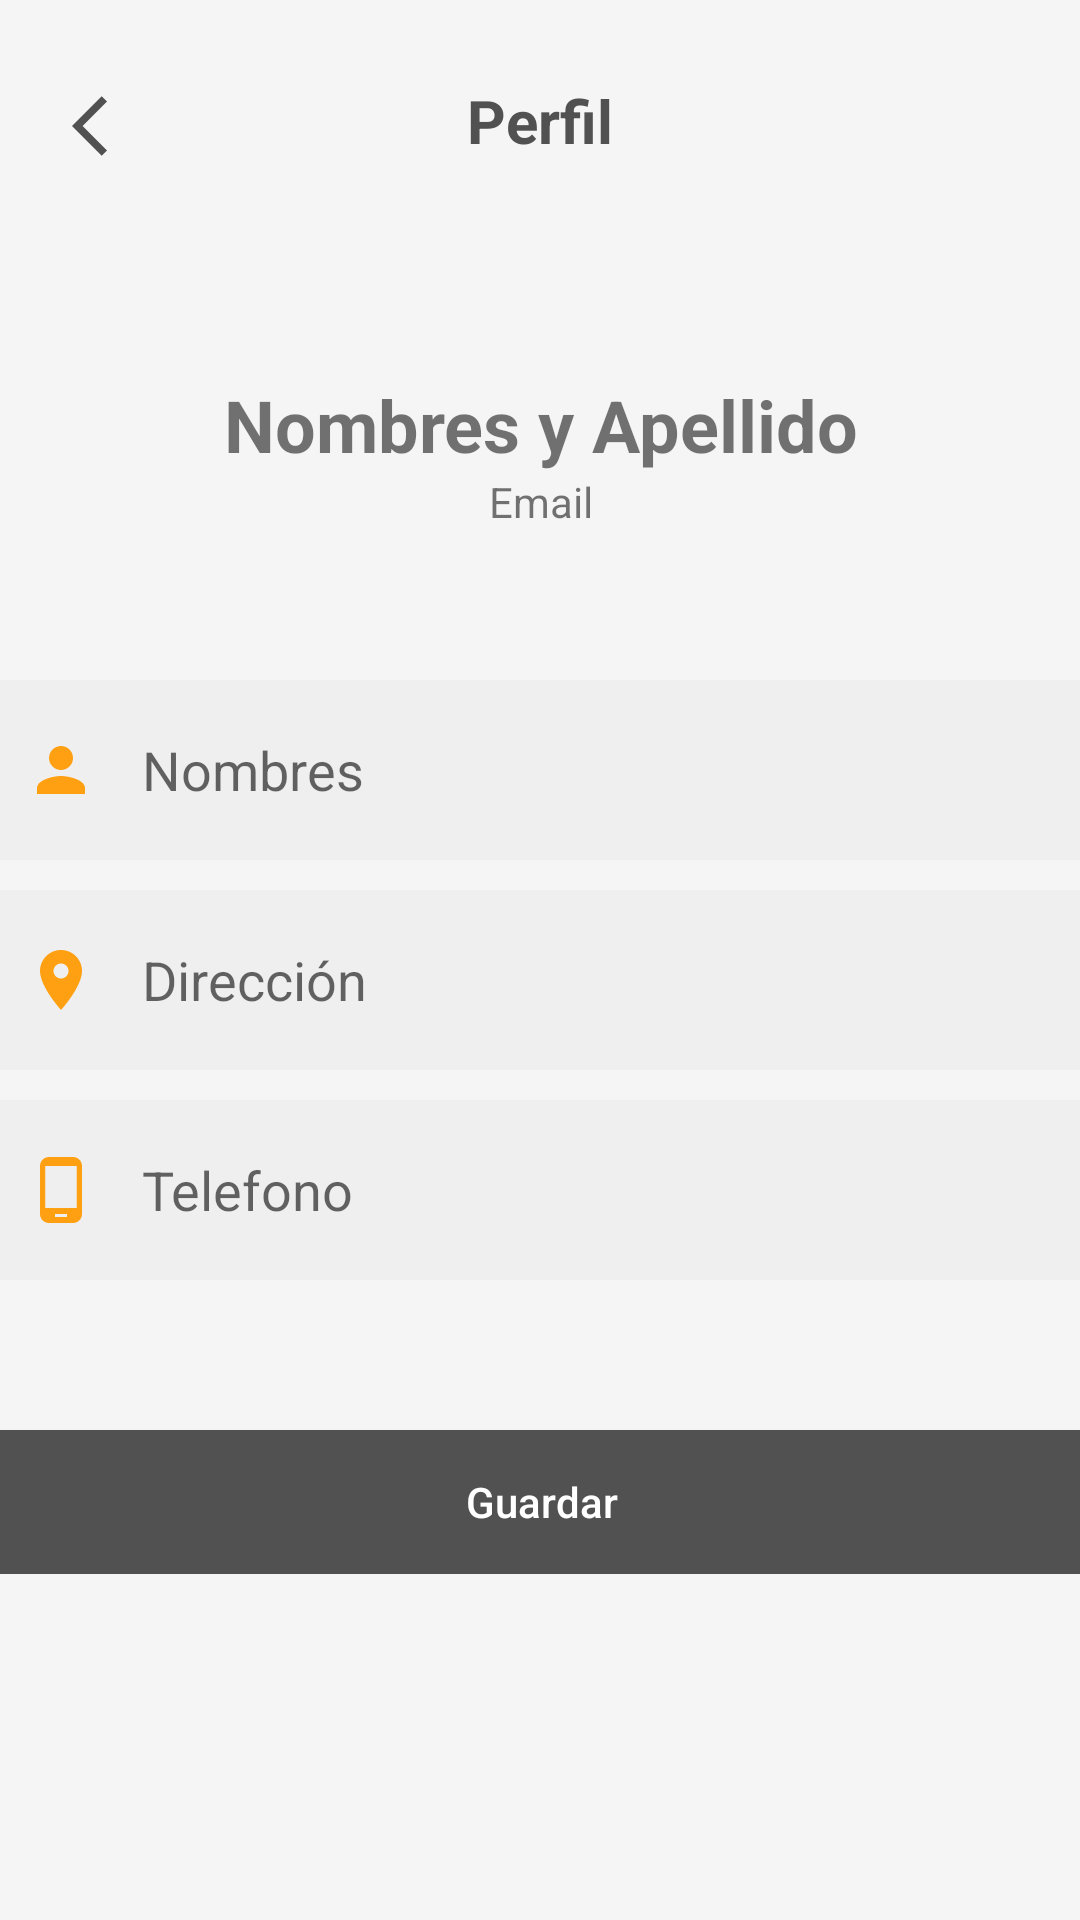

Named icons in this screenshot (1080w x 1920h) and their centers, point (x, y):
atras: point (89, 126)
